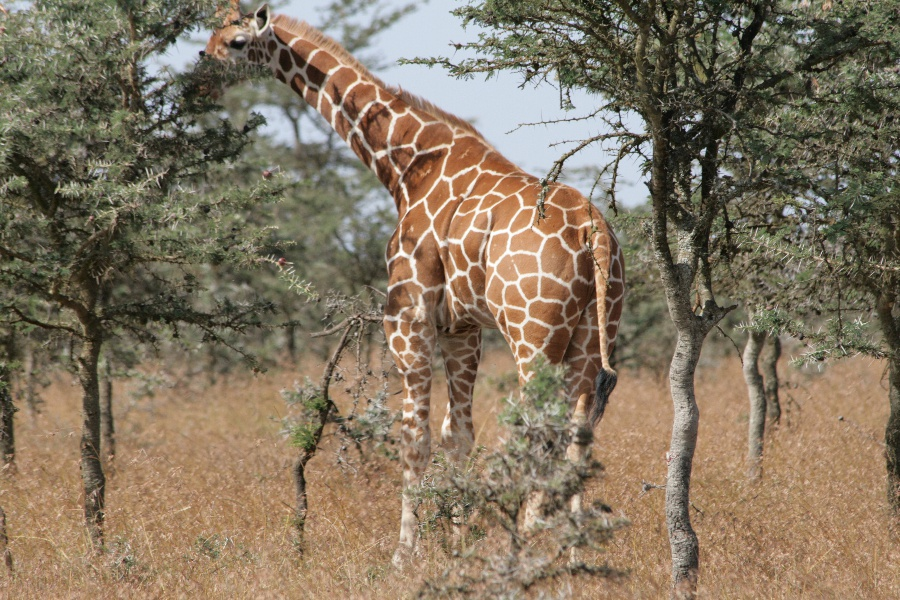giraffe: (184, 3, 640, 573)
